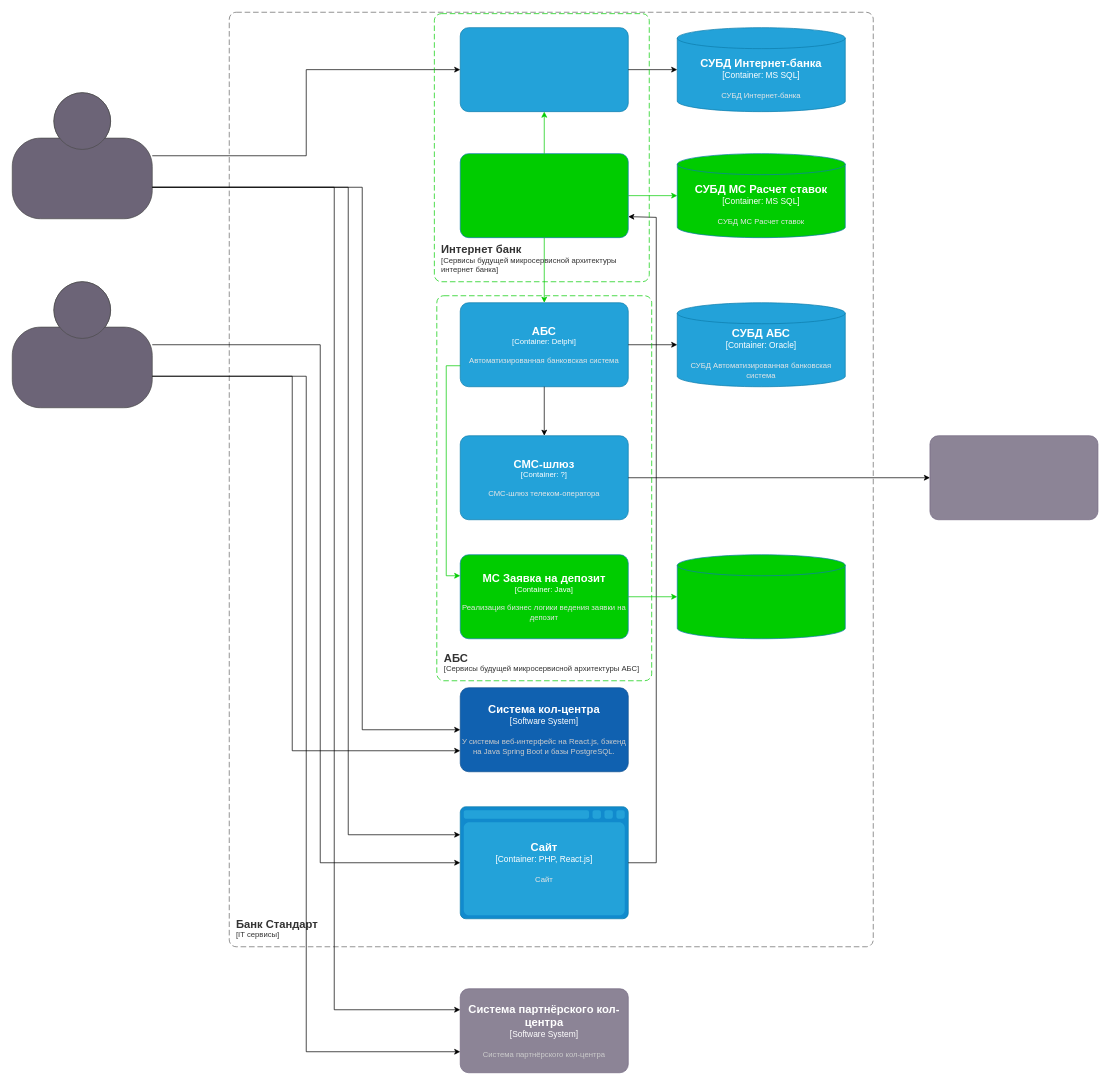
Some shapes in this 1110 by 1085 pixel diagram are drawn without their labels. Here are the shapes that lost their labels. From the top down, the centre of each, then its label:
At [544,69]: "Интернет-банк [Container: ASP.NET MVC 4.5] Интернет-банк".
At [82,155]: "Клиент Банка [Person] Действующий Клиент Банка".
At [544,195]: "МС Расчет ставок [Container: Java] Расчет персональных ставок и общих ставок".
At [82,344]: "Потенциальный Клиент Банка [Person] Потенциальный Клиент Банка".
At [1013,477]: "Телеком-оператор [Software System] Телеком-оператор".
At [761,596]: "СУБД МС Заявка на депозит [Container: MS SQL] СУБД МС Заявка на депозит".
